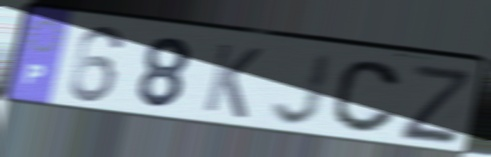6: (67, 24, 127, 107)
8: (135, 35, 194, 111)
C: (328, 57, 404, 136)
J: (268, 50, 337, 128)
K: (200, 40, 266, 122)
Z: (397, 60, 472, 144)
